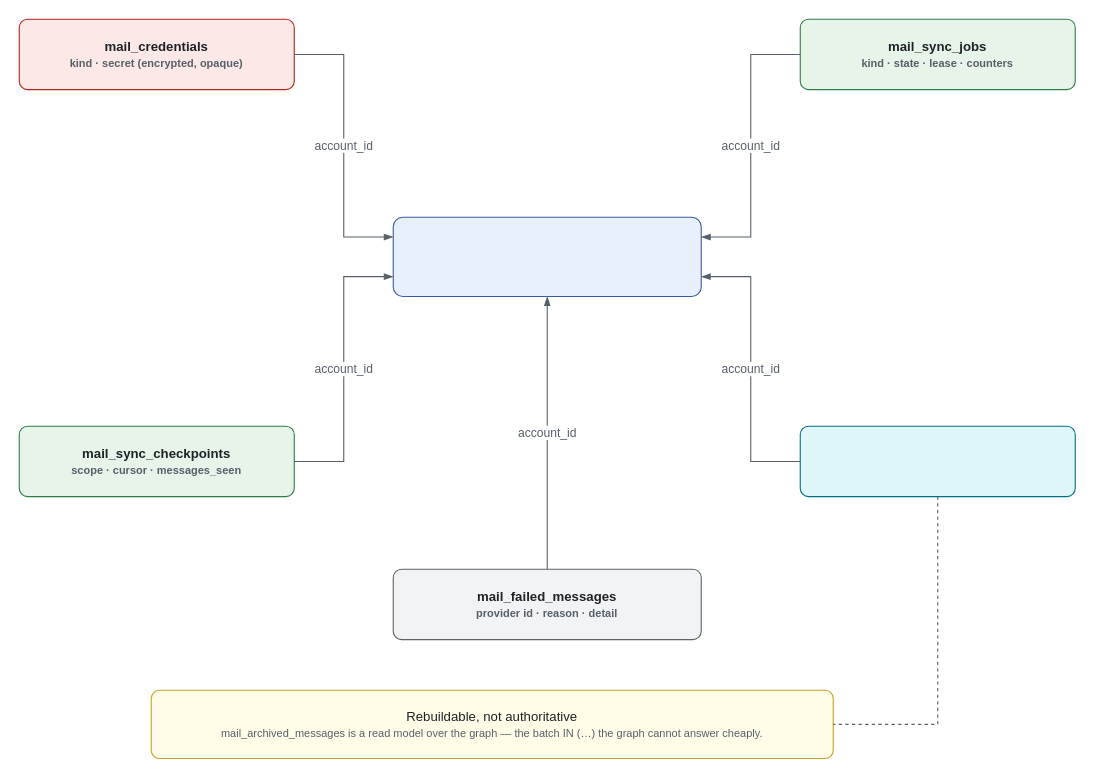
Some shapes in this 1095 by 778 pixel diagram are drawn without their labels. The shapes that lost their labels are listed below. From the top down, each one's centre as x and y in pixels, then its label:
[546,256]: mail_accounts provider · address · enabled · status
[937,461]: mail_archived_messages provider id → canonical id
